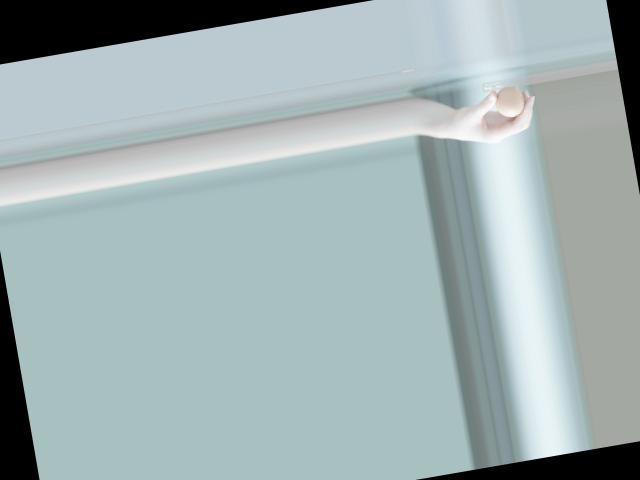egg: (492, 83, 527, 119)
